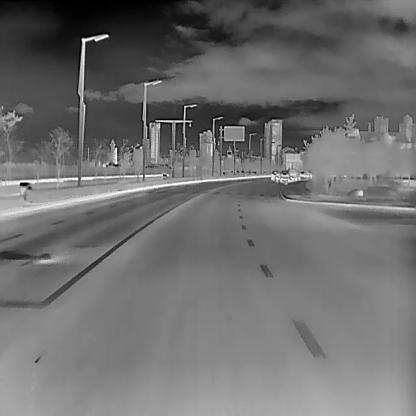car: (278, 170, 290, 183), (269, 169, 279, 180), (288, 168, 296, 181)
